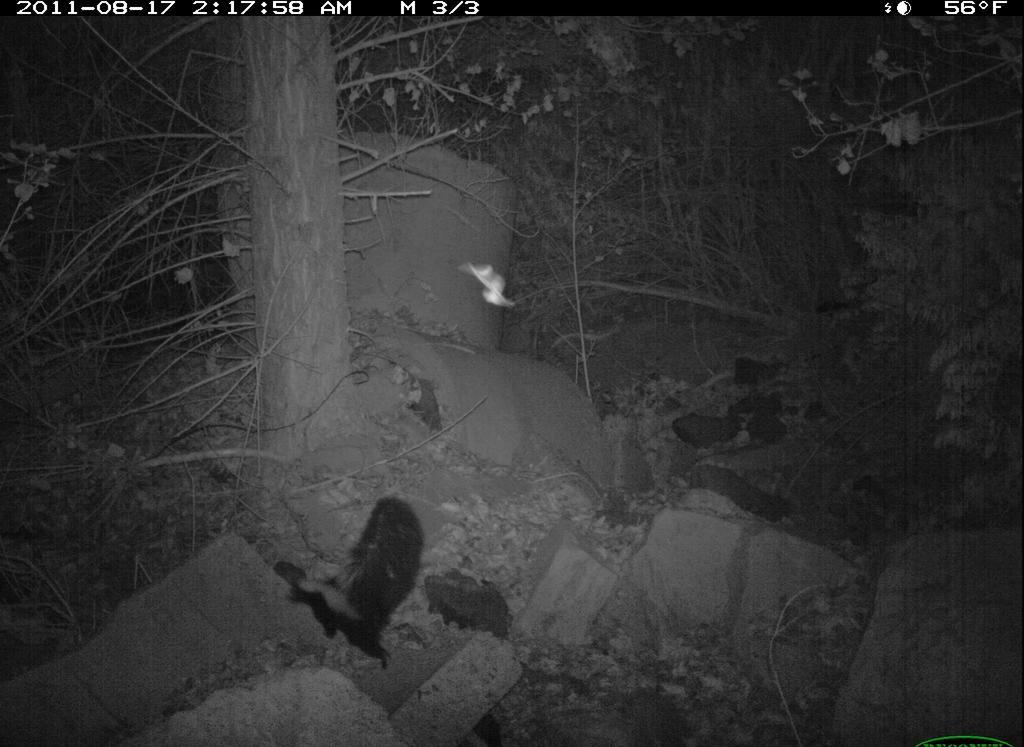skunk: (267, 492, 433, 678)
